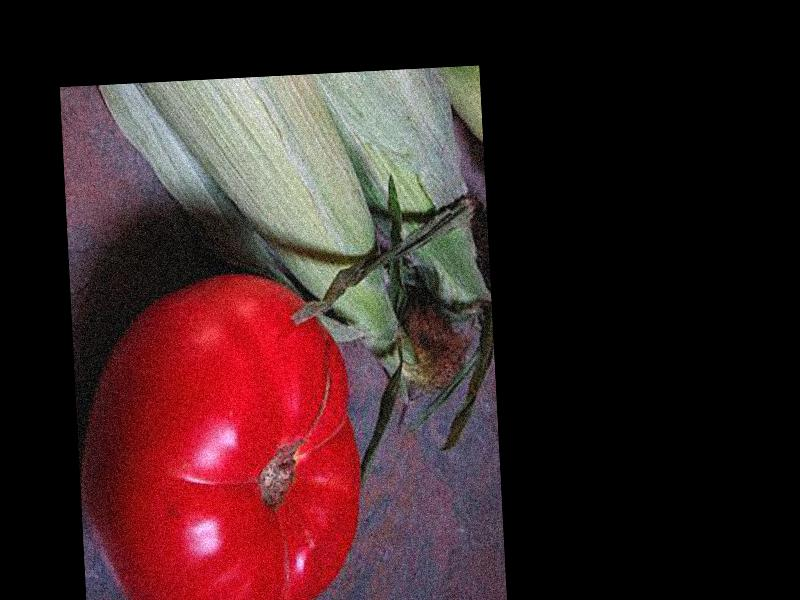Tomato: (73, 269, 368, 600)
